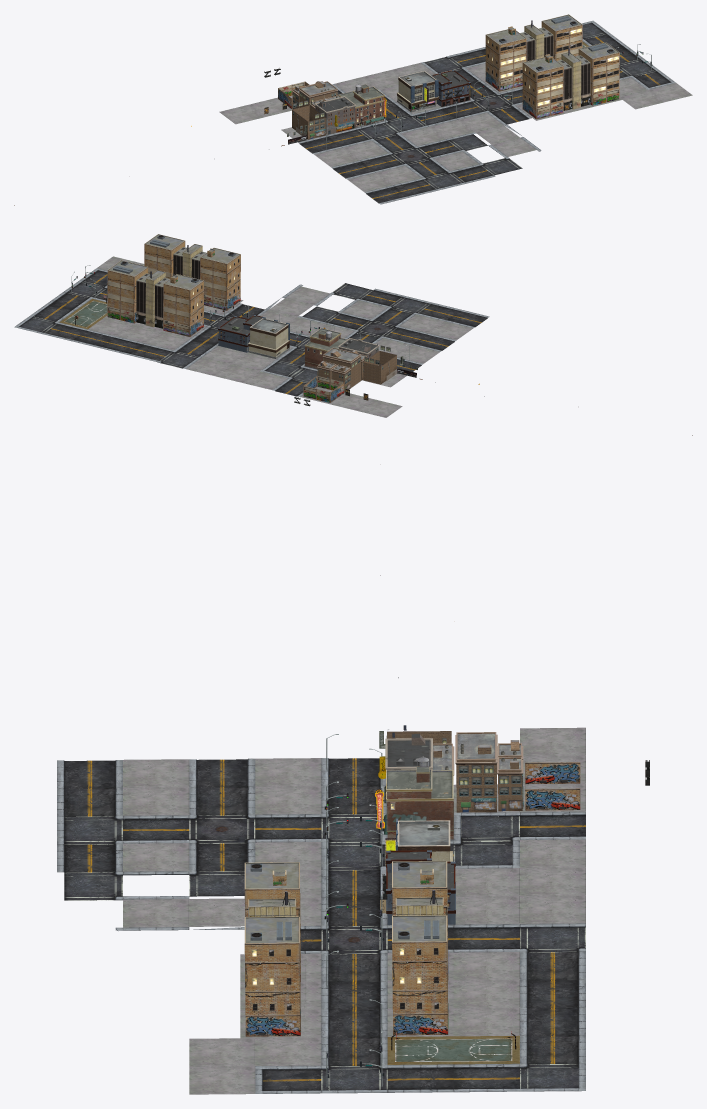
3 views of the same model, one above another, from view 1: azimuth 30°, elevation 25°; view 2: azimuth 150°, elevation 25°; view 3: azimuth 270°, elevation 25° (orthographic). The views are drawn at different scales.
Parts seen in each view (by area): view 1: BD_ConcreteBlock1_RoadsGround_0, pasted__pCube20_LMProjects_0.003, pasted__pCube20_LMProjects_0, pasted__pCube27_LMProjects_0.003, pasted__pCube27_LMProjects_0, Filler_Apartments2_FillerBuildings1_0, pasted__pCube19_LMProjects_0.003, pCube21_FillerBuildings1_0, pCube6_Paramount_0, pasted__BD_ConcreteBlock2_RoadsGround_0.001, pasted__pCube1_LMProjects_0.003, pasted__BD_ConcreteBlock1_RoadsGround_0.001 (+11 smaller); view 2: BD_ConcreteBlock1_RoadsGround_0, pasted__pCube20_LMProjects_0, pasted__pCube20_LMProjects_0.003, pasted__pCube27_LMProjects_0, pasted__pCube27_LMProjects_0.003, Filler_Apartments2_FillerBuildings1_0, LM_Basketball9_Basketball_0, pasted__pCube28_LMProjects_0.001, pasted__pCube19_LMProjects_0, pasted__BD_ConcreteBlock2_RoadsGround_0.001, pasted__pCube26_LMProjects_0, pasted__pCube1_LMProjects_0 (+8 smaller); view 3: BD_ConcreteBlock1_RoadsGround_0, pasted__pCube27_LMProjects_0, pasted__pCube27_LMProjects_0.003, LM_Basketball9_Basketball_0, pasted__pCube28_LMProjects_0.001, pCube6_Paramount_0, pasted__pCube20_LMProjects_0.003, pasted__pCube20_LMProjects_0, pasted__BD_ConcreteBlock2_RoadsGround_0.001, pasted__polySurface804_Pawnshop_0, Filler_Apartments2_FillerBuildings1_0, pasted__pCube28_LMProjects_0 (+3 smaller).
Part boxes in pixels (x1=…): BD_ConcreteBlock1_RoadsGround_0: x1=281, y1=20, x2=692, y2=204; pasted__pCube20_LMProjects_0.003: x1=522, y1=57, x2=563, y2=108; pasted__pCube20_LMProjects_0: x1=485, y1=29, x2=526, y2=80; pasted__pCube27_LMProjects_0.003: x1=578, y1=42, x2=619, y2=94; pasted__pCube27_LMProjects_0: x1=541, y1=14, x2=582, y2=60; Filler_Apartments2_FillerBuildings1_0: x1=431, y1=70, x2=471, y2=106; pasted__pCube19_LMProjects_0.003: x1=561, y1=52, x2=581, y2=109; pCube21_FillerBuildings1_0: x1=314, y1=96, x2=356, y2=127; pCube6_Paramount_0: x1=353, y1=86, x2=384, y2=120; pasted__BD_ConcreteBlock2_RoadsGround_0.001: x1=219, y1=105, x2=263, y2=124; pasted__pCube1_LMProjects_0.003: x1=522, y1=98, x2=563, y2=119; pasted__BD_ConcreteBlock1_RoadsGround_0.001: x1=248, y1=98, x2=291, y2=117; BD_ConcreteBlock1_RoadsGround_0: x1=14, y1=256, x2=489, y2=396; pasted__pCube20_LMProjects_0: x1=163, y1=274, x2=203, y2=325; pasted__pCube20_LMProjects_0.003: x1=200, y1=247, x2=240, y2=299; pasted__pCube27_LMProjects_0: x1=107, y1=260, x2=148, y2=312; pasted__pCube27_LMProjects_0.003: x1=144, y1=234, x2=185, y2=278; Filler_Apartments2_FillerBuildings1_0: x1=218, y1=315, x2=262, y2=352; LM_Basketball9_Basketball_0: x1=59, y1=295, x2=107, y2=329; pasted__pCube28_LMProjects_0.001: x1=303, y1=376, x2=344, y2=402; pasted__pCube19_LMProjects_0: x1=145, y1=270, x2=165, y2=327; pasted__BD_ConcreteBlock2_RoadsGround_0.001: x1=358, y1=399, x2=402, y2=417; pasted__pCube26_LMProjects_0: x1=136, y1=273, x2=150, y2=324; pasted__pCube1_LMProjects_0: x1=163, y1=316, x2=203, y2=336; BD_ConcreteBlock1_RoadsGround_0: x1=57, y1=758, x2=585, y2=1094; pasted__pCube27_LMProjects_0: x1=392, y1=915, x2=447, y2=1013; pasted__pCube27_LMProjects_0.003: x1=244, y1=916, x2=300, y2=1014; LM_Basketball9_Basketball_0: x1=387, y1=1031, x2=519, y2=1064; pasted__pCube28_LMProjects_0.001: x1=525, y1=762, x2=580, y2=810; pCube6_Paramount_0: x1=386, y1=769, x2=432, y2=830; pasted__pCube20_LMProjects_0.003: x1=244, y1=862, x2=300, y2=959; pasted__pCube20_LMProjects_0: x1=392, y1=861, x2=447, y2=958; pasted__BD_ConcreteBlock2_RoadsGround_0.001: x1=520, y1=727, x2=585, y2=756; pasted__polySurface804_Pawnshop_0: x1=397, y1=820, x2=450, y2=851; Filler_Apartments2_FillerBuildings1_0: x1=380, y1=850, x2=455, y2=925; pasted__pCube28_LMProjects_0: x1=393, y1=1003, x2=448, y2=1035.
Bounding box in the file's own units: 194 × 16.13 × 79.26.
Materials: 20 (16 with a texture image).
